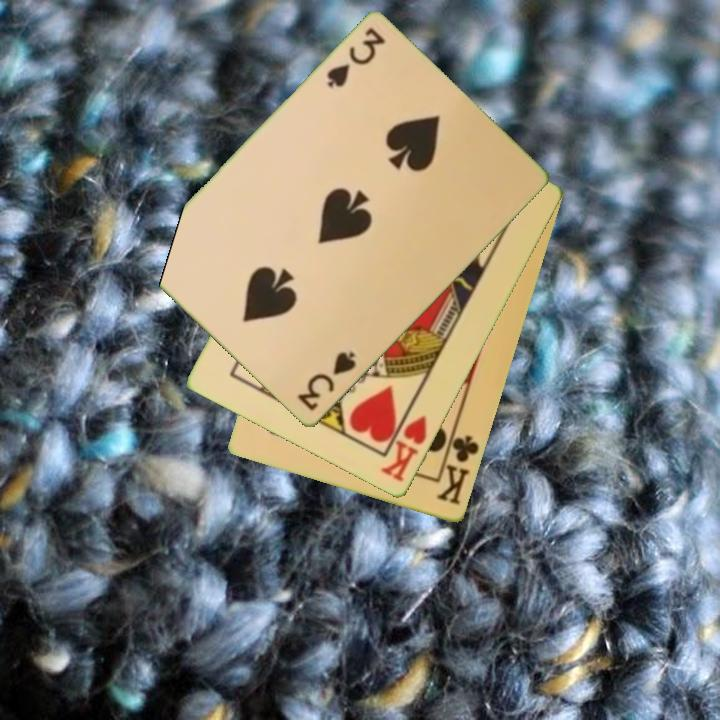3s: (323, 24, 389, 91), (294, 348, 359, 414)
Kc: (434, 425, 482, 509)
Kh: (377, 401, 430, 486)
